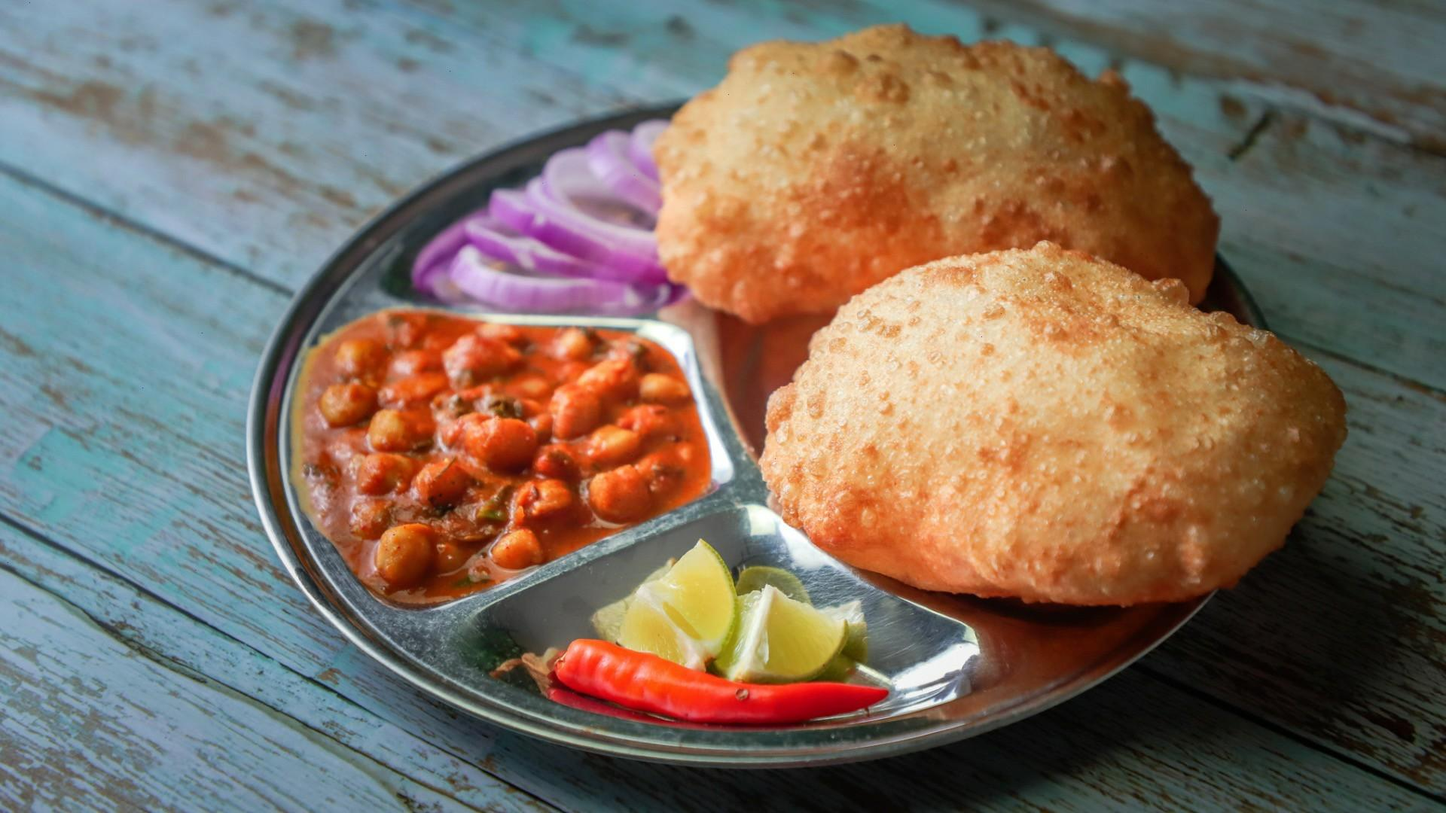Bhatura: (654, 20, 1348, 600)
Chole: (311, 312, 680, 580)
